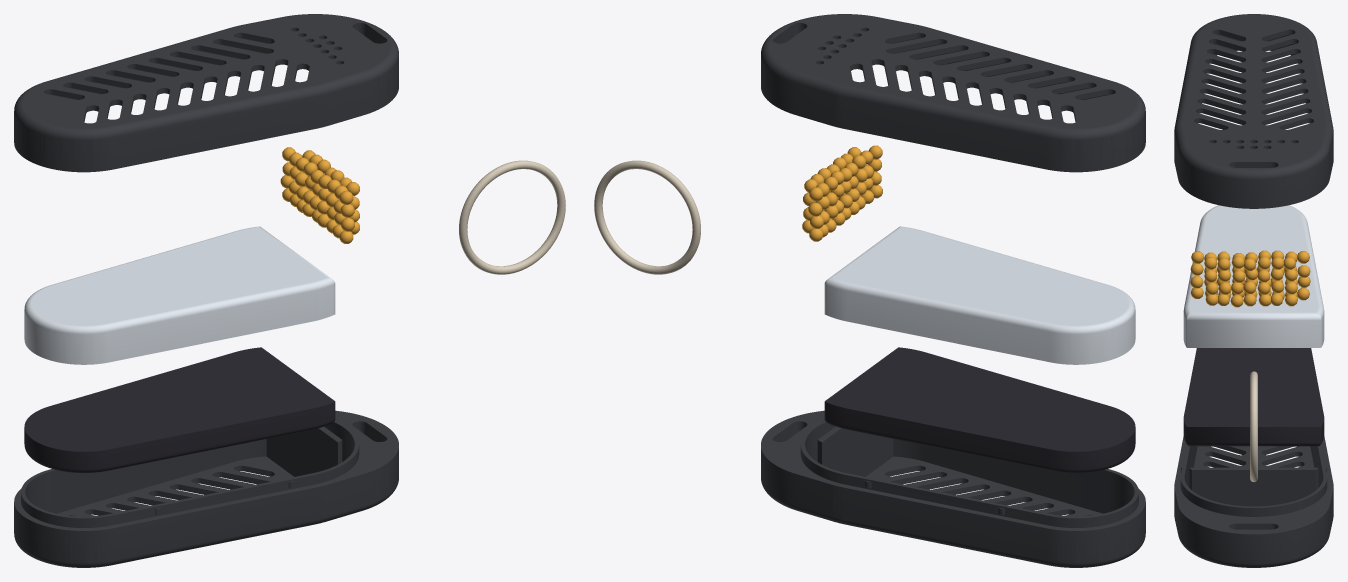
Rendered from solefresh_v3_2_S_exploded.glb.
3 views of the same model, side by side, from view 1: azimuth 30°, elevation 25°; view 2: azimuth 150°, elevation 25°; view 3: azimuth 270°, elevation 25° (orthographic). The views are drawn at different scales.
Parts seen in each view (by area): view 1: shell_top, shell_bottom, silica_sachet, carbon_sachet, scent_beads, pull_cord; view 2: shell_top, shell_bottom, silica_sachet, carbon_sachet, scent_beads, pull_cord; view 3: shell_top, shell_bottom, silica_sachet, carbon_sachet, scent_beads, pull_cord.
Part boxes in pixels (x1,y1,x2,y2): shell_top: [14, 14, 398, 172]; shell_bottom: [14, 410, 398, 567]; silica_sachet: [24, 226, 335, 364]; carbon_sachet: [24, 347, 335, 472]; scent_beads: [280, 147, 359, 243]; pull_cord: [459, 160, 565, 274]; shell_top: [761, 14, 1145, 172]; shell_bottom: [761, 410, 1145, 567]; silica_sachet: [824, 226, 1135, 364]; carbon_sachet: [824, 347, 1135, 472]; scent_beads: [802, 145, 882, 241]; pull_cord: [594, 160, 700, 274]; shell_top: [1174, 14, 1333, 208]; shell_bottom: [1174, 435, 1333, 567]; silica_sachet: [1183, 205, 1324, 347]; carbon_sachet: [1183, 348, 1324, 446]; scent_beads: [1190, 250, 1310, 307]; pull_cord: [1250, 371, 1257, 481].
Size of the model in its own units: 0.1454 by 0.1124 by 0.0408.
